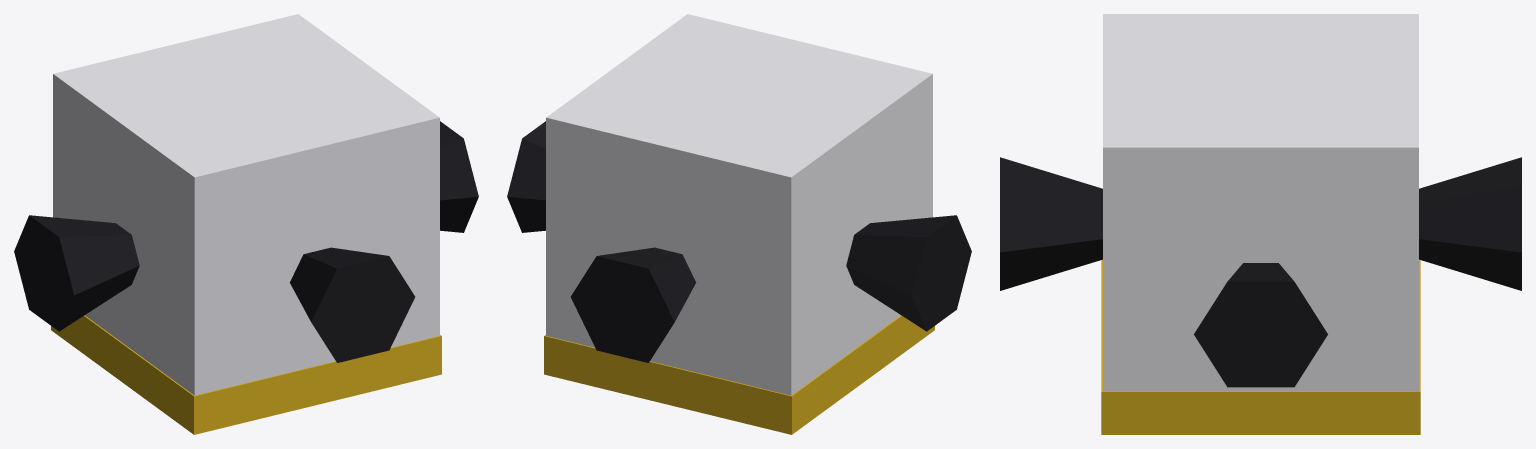
The model's file is ship_rcs_quad.obj.
3 views of the same model, side by side, from view 1: azimuth 30°, elevation 25°; view 2: azimuth 150°, elevation 25°; view 3: azimuth 270°, elevation 25° (orthographic). The views are drawn at different scales.
Visible parts, largest first — view 1: body, nozzles, chevron; view 2: body, nozzles, chevron; view 3: body, nozzles, chevron.
Boxes of the visible parts, left/top/right/bottom form: body: left=53, top=14, right=439, bottom=395; nozzles: left=14, top=121, right=478, bottom=362; chevron: left=51, top=315, right=441, bottom=434; body: left=546, top=14, right=932, bottom=395; nozzles: left=507, top=121, right=971, bottom=362; chevron: left=544, top=315, right=934, bottom=434; body: left=1103, top=14, right=1418, bottom=391; nozzles: left=1000, top=157, right=1521, bottom=387; chevron: left=1101, top=259, right=1420, bottom=434.
Size of the model in its own units: 0.66 by 0.4 by 0.66.
